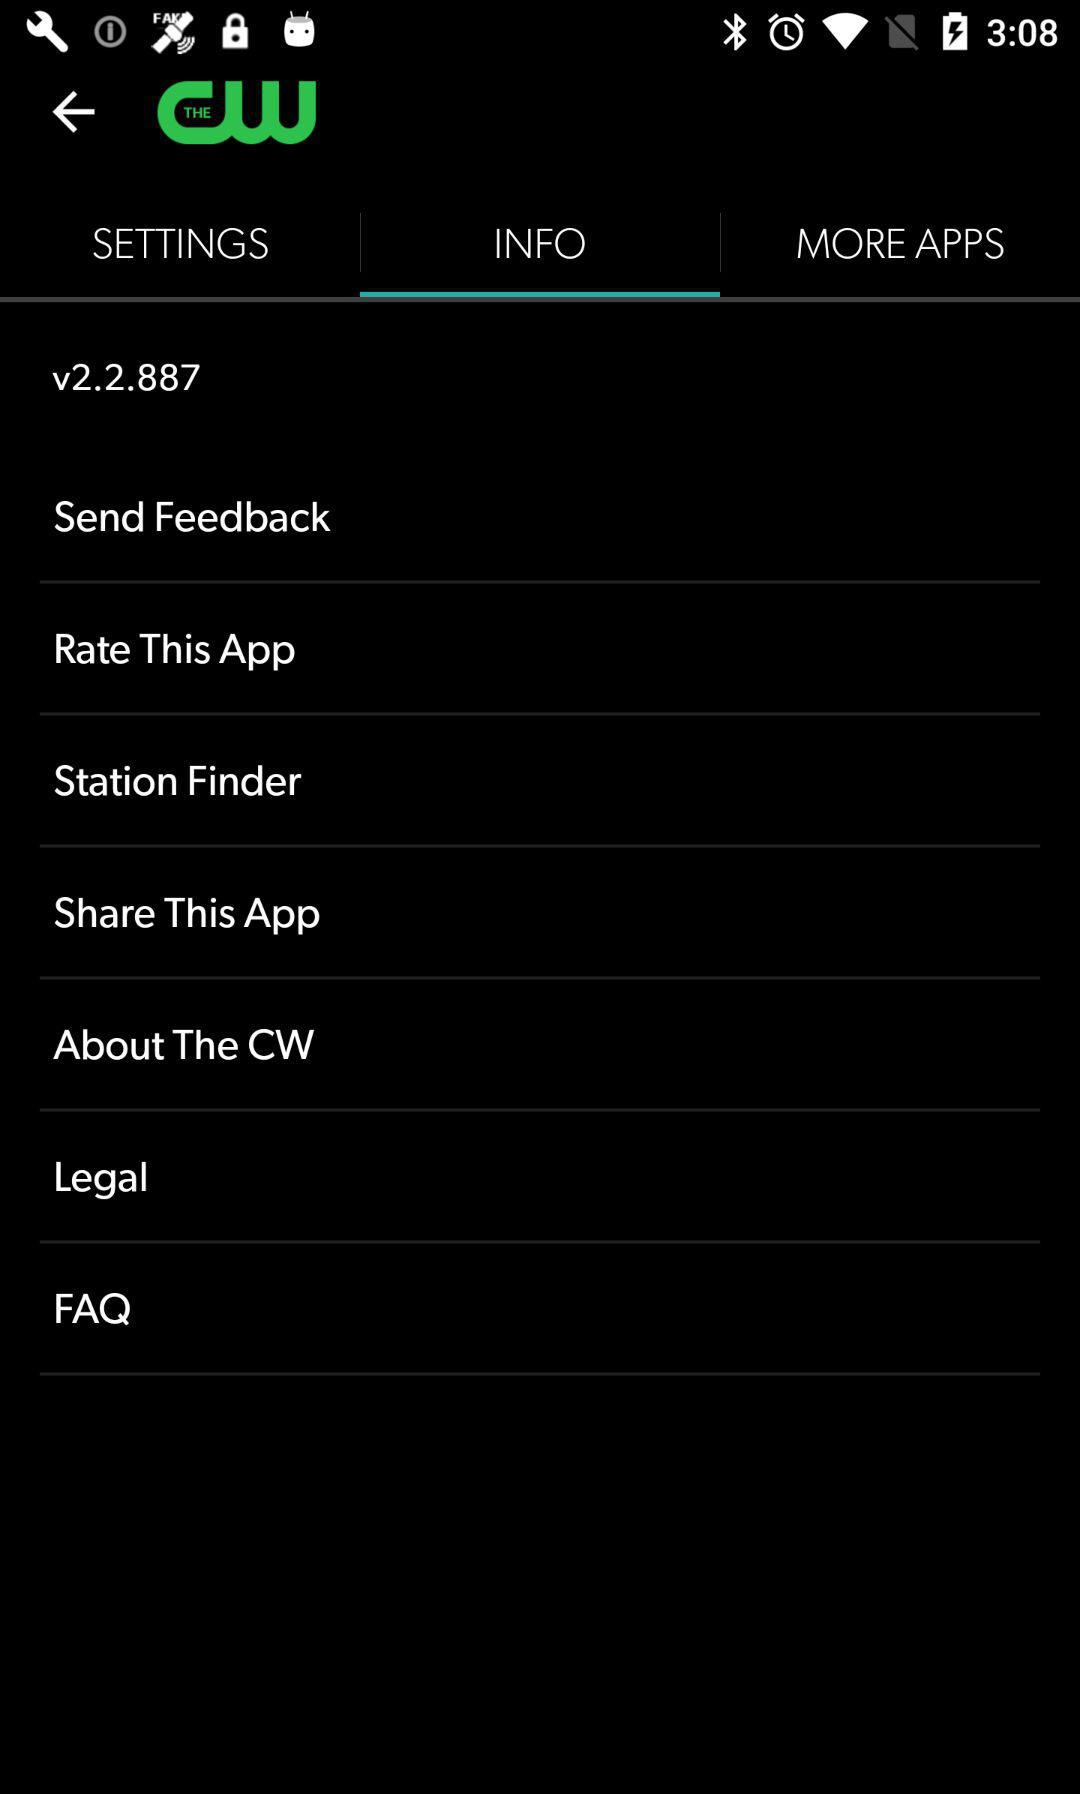Icon: (53, 90, 97, 135)
Image: (158, 79, 318, 147)
Text: (55, 896, 322, 935), (55, 500, 332, 534), (55, 633, 296, 673), (53, 1028, 316, 1062), (55, 764, 304, 798), (797, 227, 1004, 261), (94, 227, 269, 261), (53, 363, 201, 393), (56, 1161, 149, 1201), (496, 227, 585, 261), (56, 1292, 132, 1328)
UpperTaskBar: (1, 1, 1080, 64)
